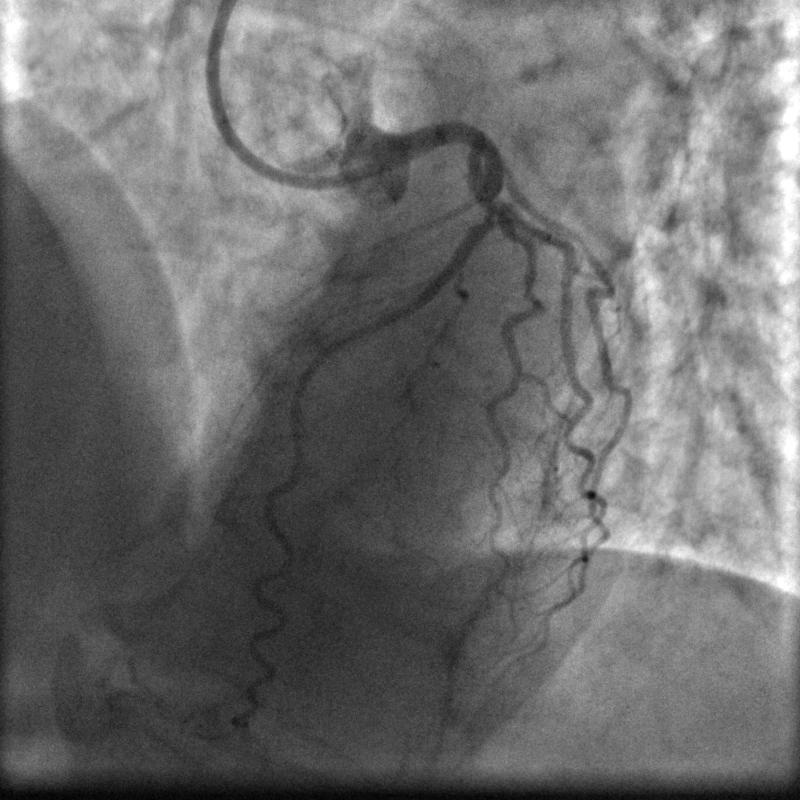Stenosis: (477, 202, 502, 226)
